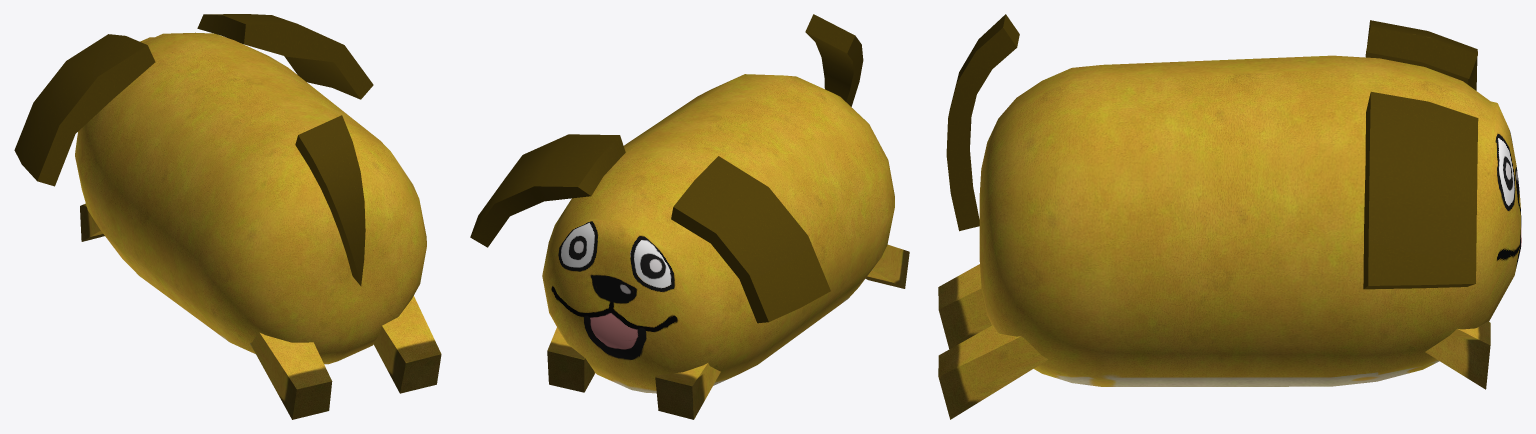
Rendered from recline1.FBX.
3 views of the same model, side by side, from view 1: azimuth 30°, elevation 25°; view 2: azimuth 150°, elevation 25°; view 3: azimuth 270°, elevation 25° (orthographic). The views are drawn at different scales.
Visible parts, largest first — view 1: recline1; view 2: recline1; view 3: recline1.
Part boxes in pixels (left/top/right/bottom): recline1: left=14, top=14, right=441, bottom=419; recline1: left=470, top=14, right=909, bottom=419; recline1: left=938, top=14, right=1521, bottom=419.
Size of the model in its own units: 37.94 by 29.37 by 44.79.
1 material, 1 textured.
